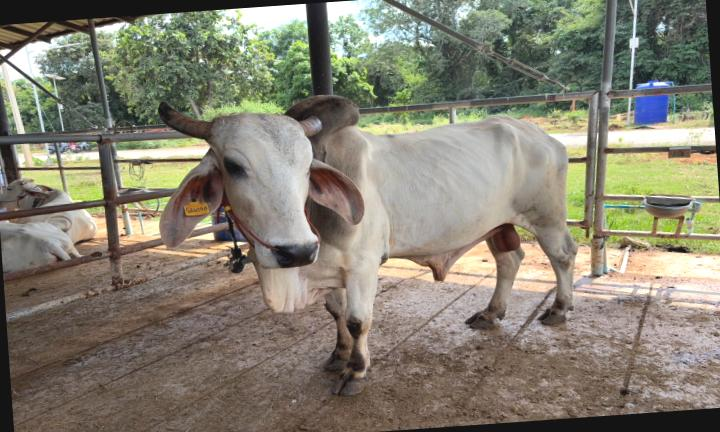Brahman: (158, 95, 578, 394)
